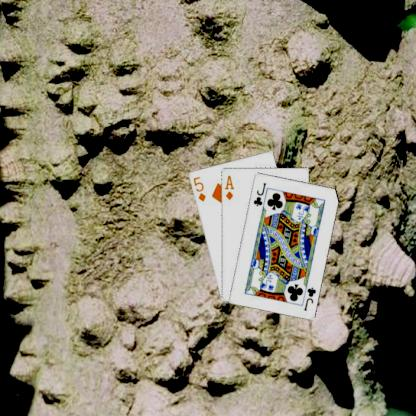5D: (190, 174, 207, 202)
AD: (222, 172, 235, 201)
JC: (251, 180, 267, 208), (301, 284, 317, 312)
